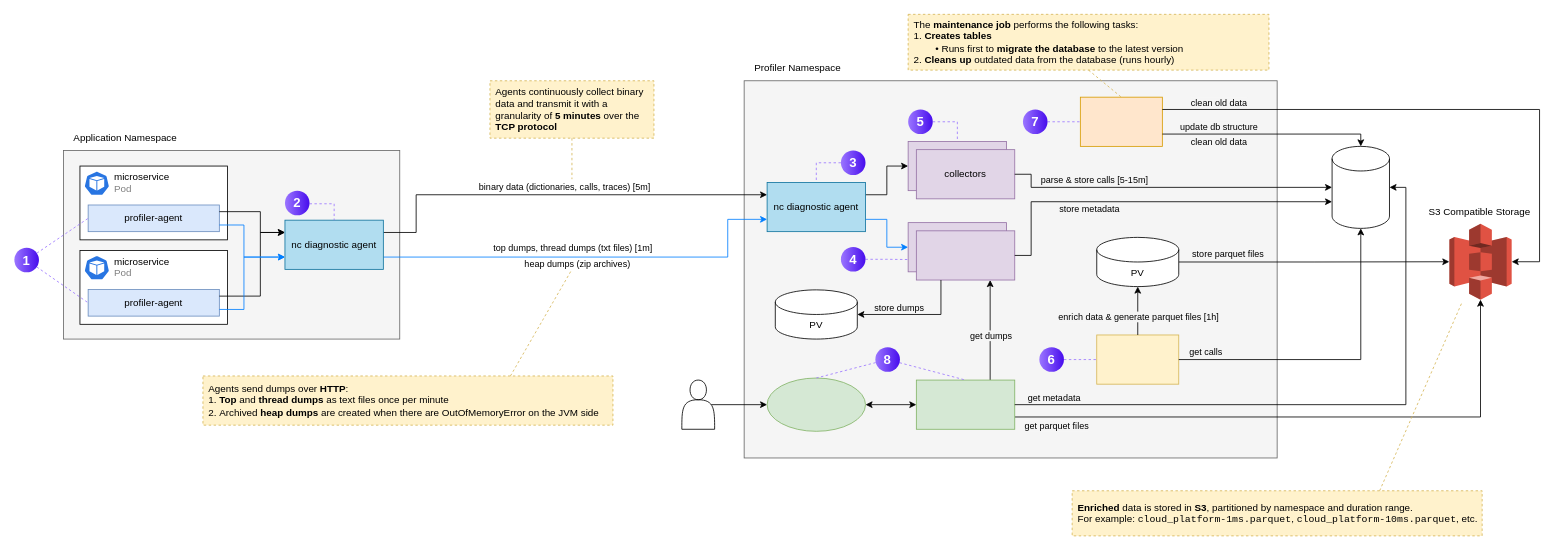
This 1560x550 diagram has some shape labels left out. Each missing label, with the centre of its shape:
"compactor" belongs at [1137,359].
"dumps collectors" belongs at [965,255].
"maintenance job" belongs at [1121,121].
"PostgreSQL" belongs at [1360,187].
"ui service backend" belongs at [965,404].
"ui service frontend" belongs at [816,404].
